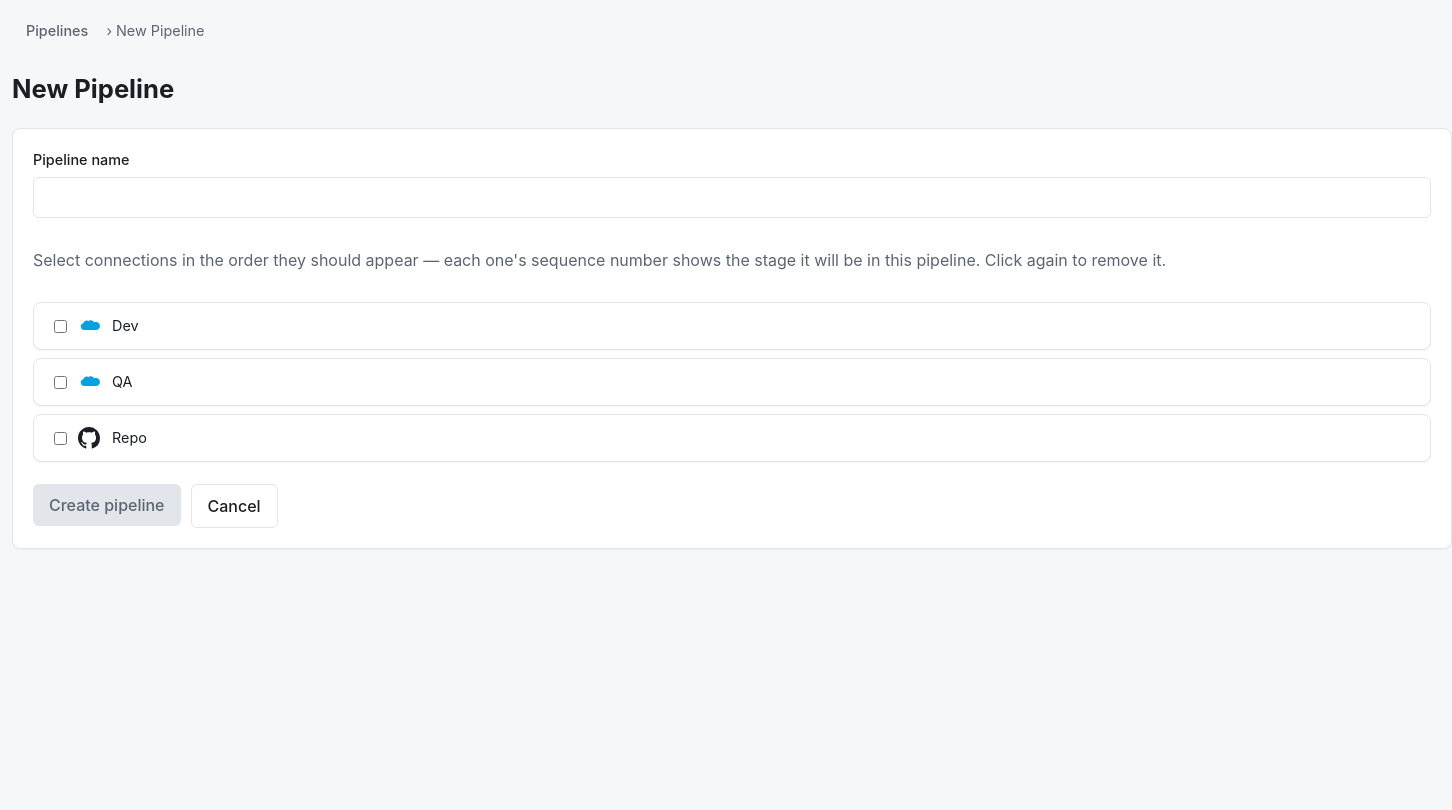
it: NewPipeline page › shows an error message when creating a pipeline fails, without navigating away
expect the checkbox labelled "Dev" is shown: met, box [54,320,67,333]
Type "Second" into the field labelled "Pipeline name". click: (732, 197)
box: [33,177,1431,218]
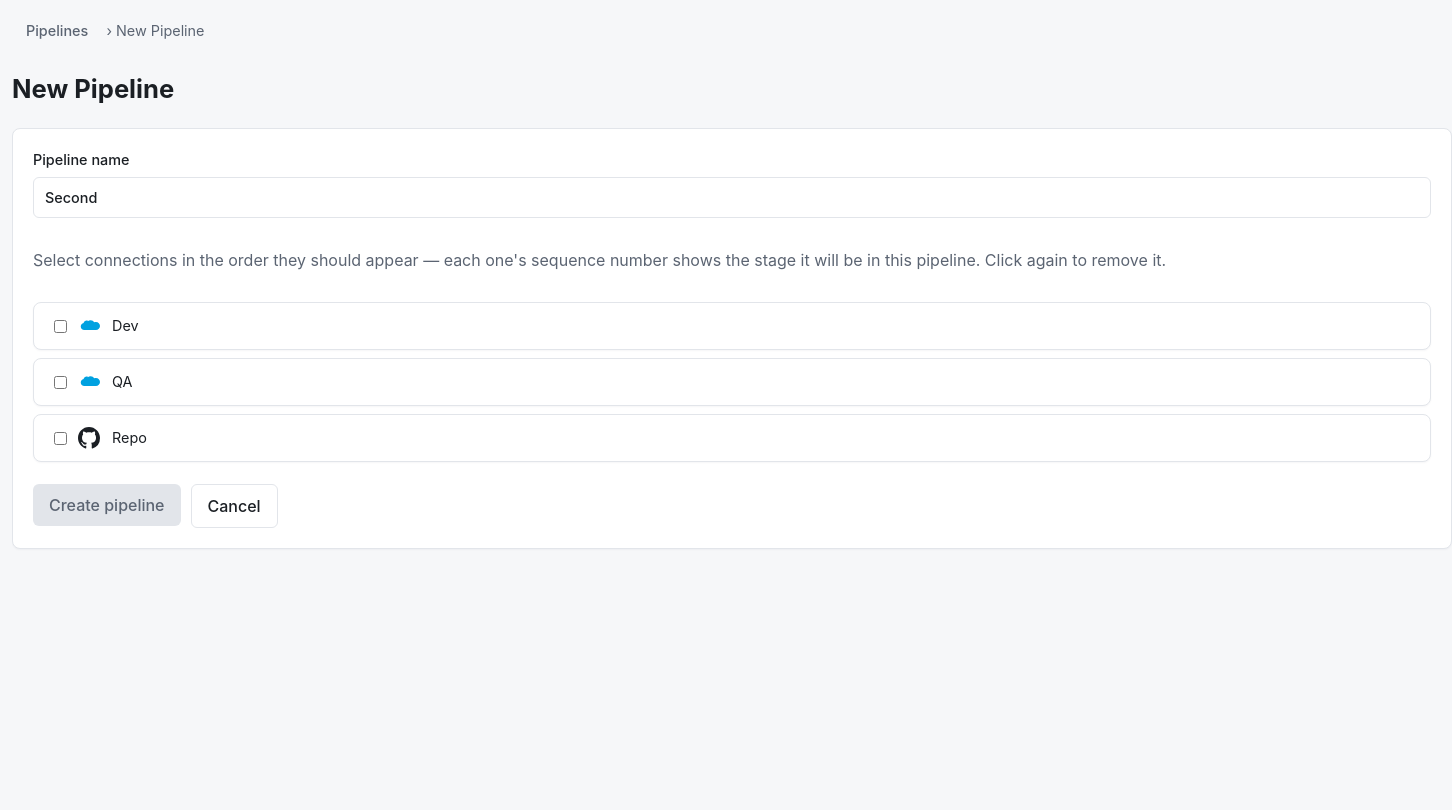
Click the checkbox labelled "Dev". click: click(60, 326)
box: [54,320,67,333]
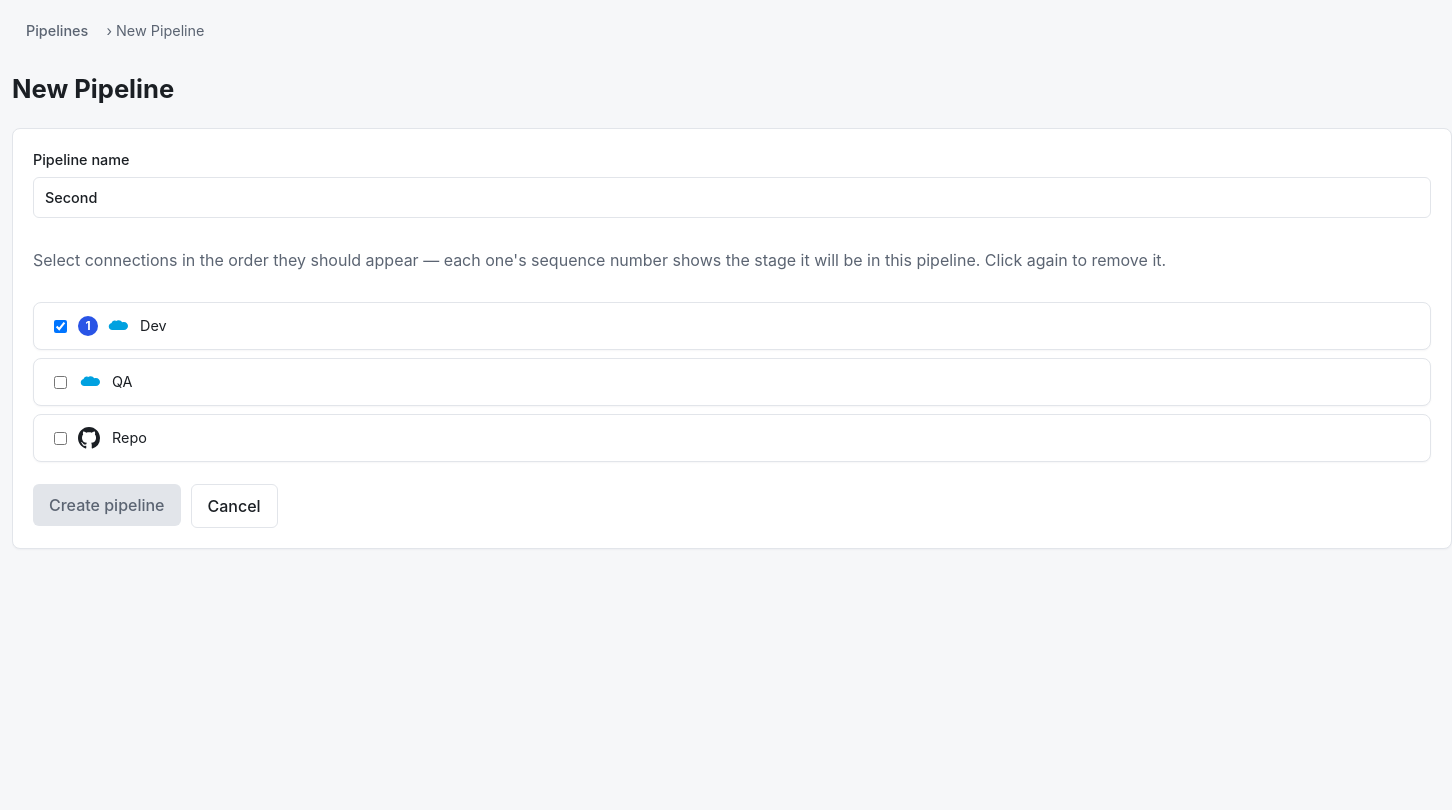
Click the checkbox labelled "QA". click: click(60, 382)
box: [54,376,67,389]
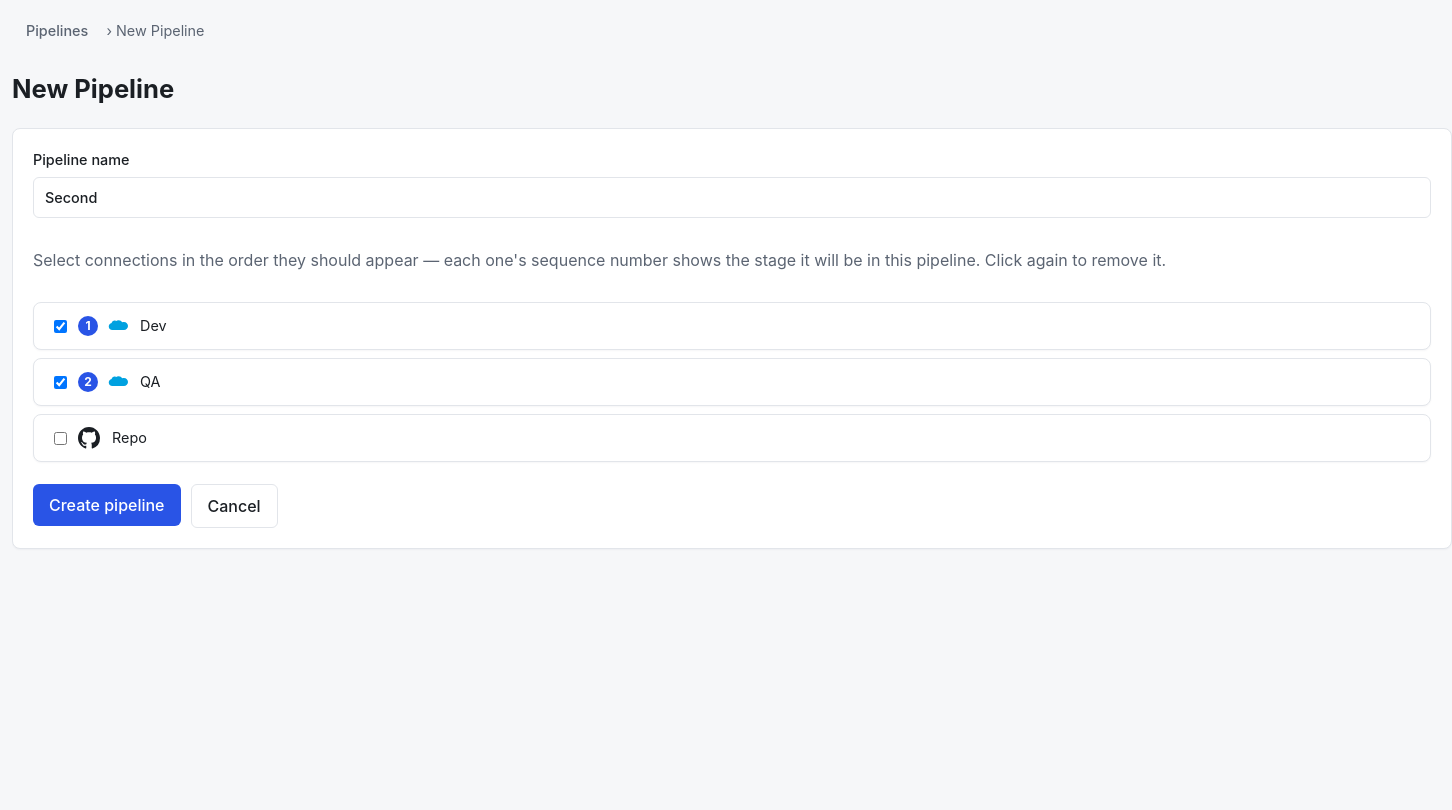
Click the button "Create pipeline". click: click(107, 505)
box: [33,484,180,526]
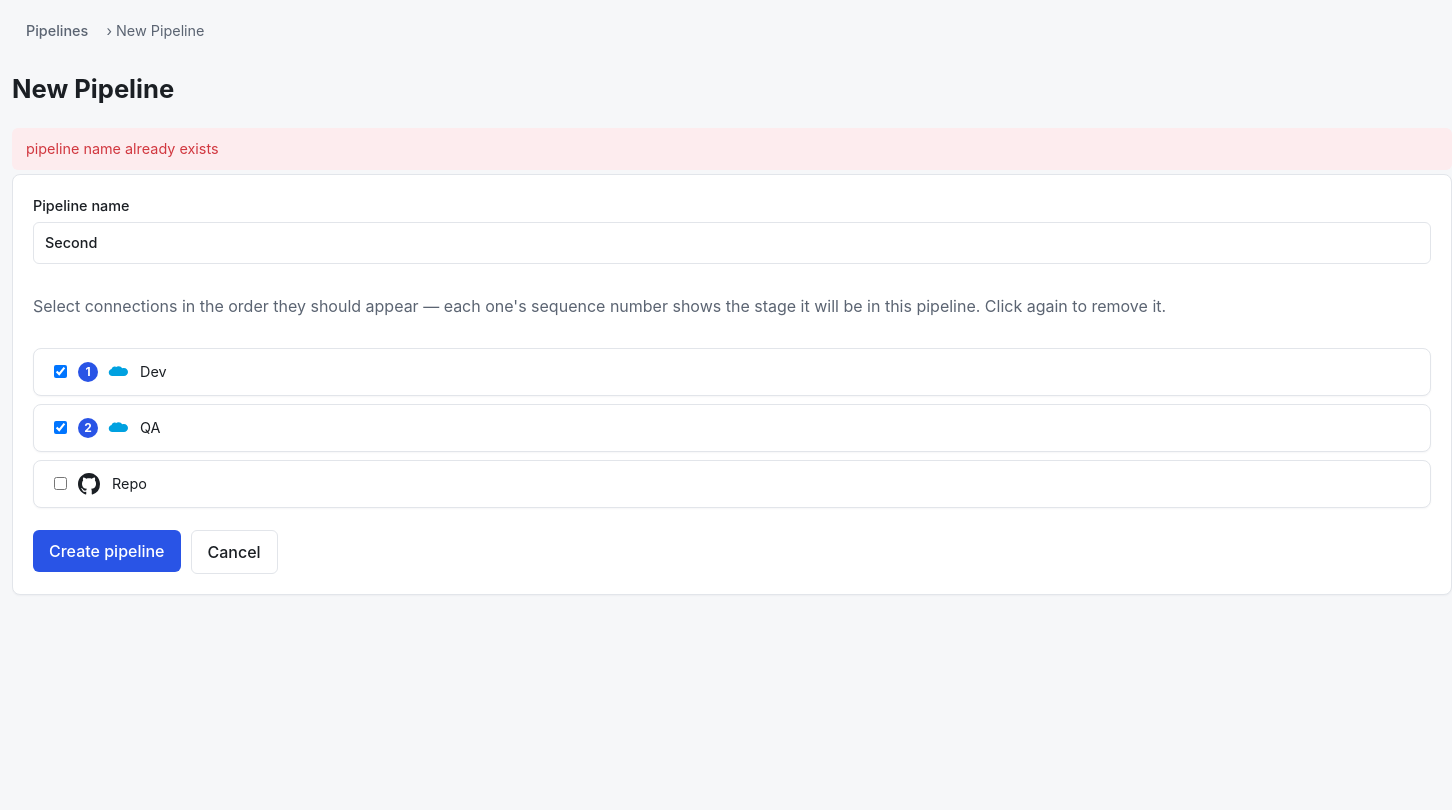
expect the message reads "pipeline name already exists": met, box [26,140,219,157]
